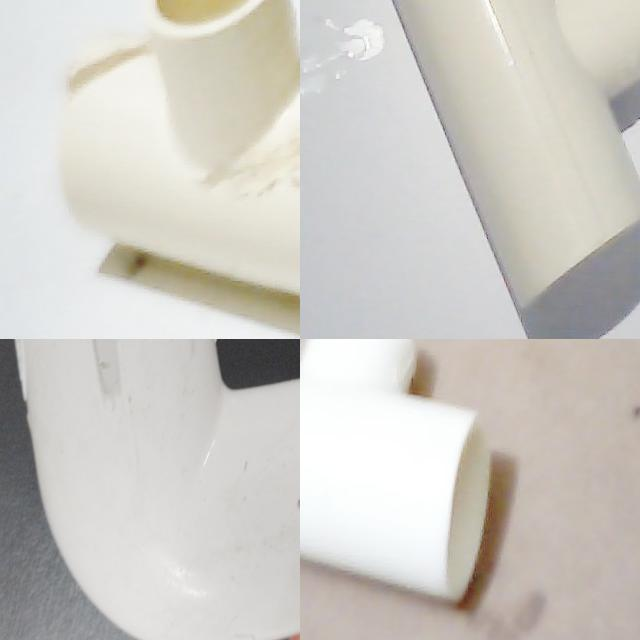Defective: (0, 568, 107, 640), (0, 578, 84, 628), (102, 339, 189, 382), (0, 583, 76, 630), (76, 41, 146, 92)
L Joint: (0, 339, 267, 640)
T Joint: (57, 0, 300, 300), (300, 339, 494, 607)
